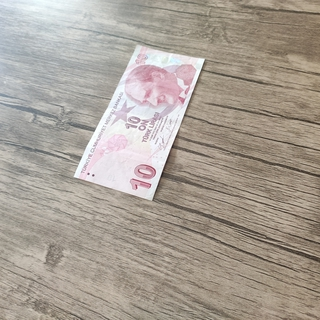10TLFront: (71, 43, 206, 202)
